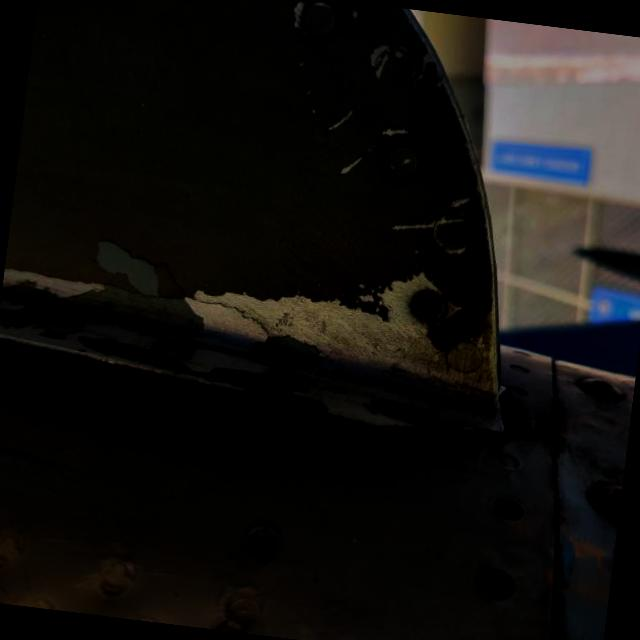paint-off: (155, 229, 532, 465), (70, 221, 176, 311)
